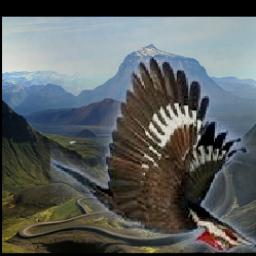Woodpecker: (50, 58, 256, 253)
